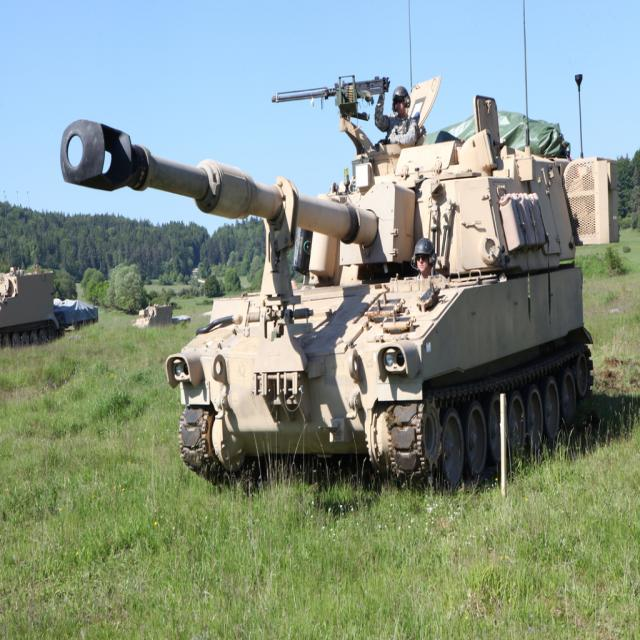tank: (61, 0, 595, 493), (0, 268, 61, 351)
